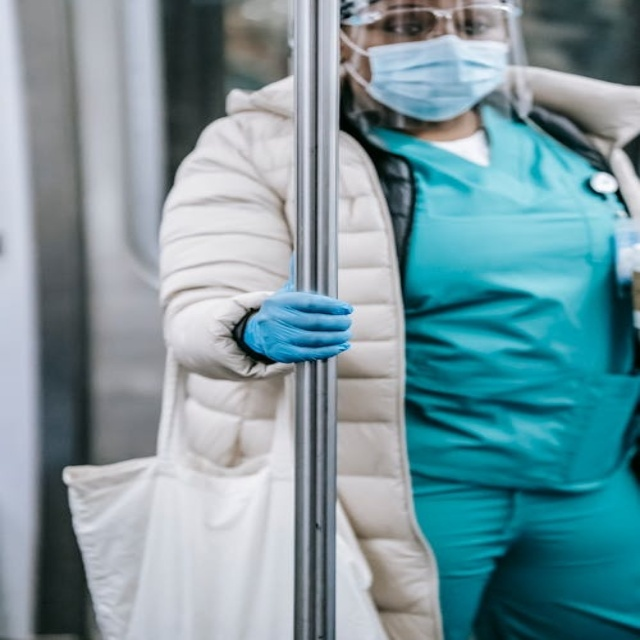Gafas: (342, 2, 519, 42)
Guantes: (240, 284, 356, 366)
Mascara: (357, 32, 511, 120)
